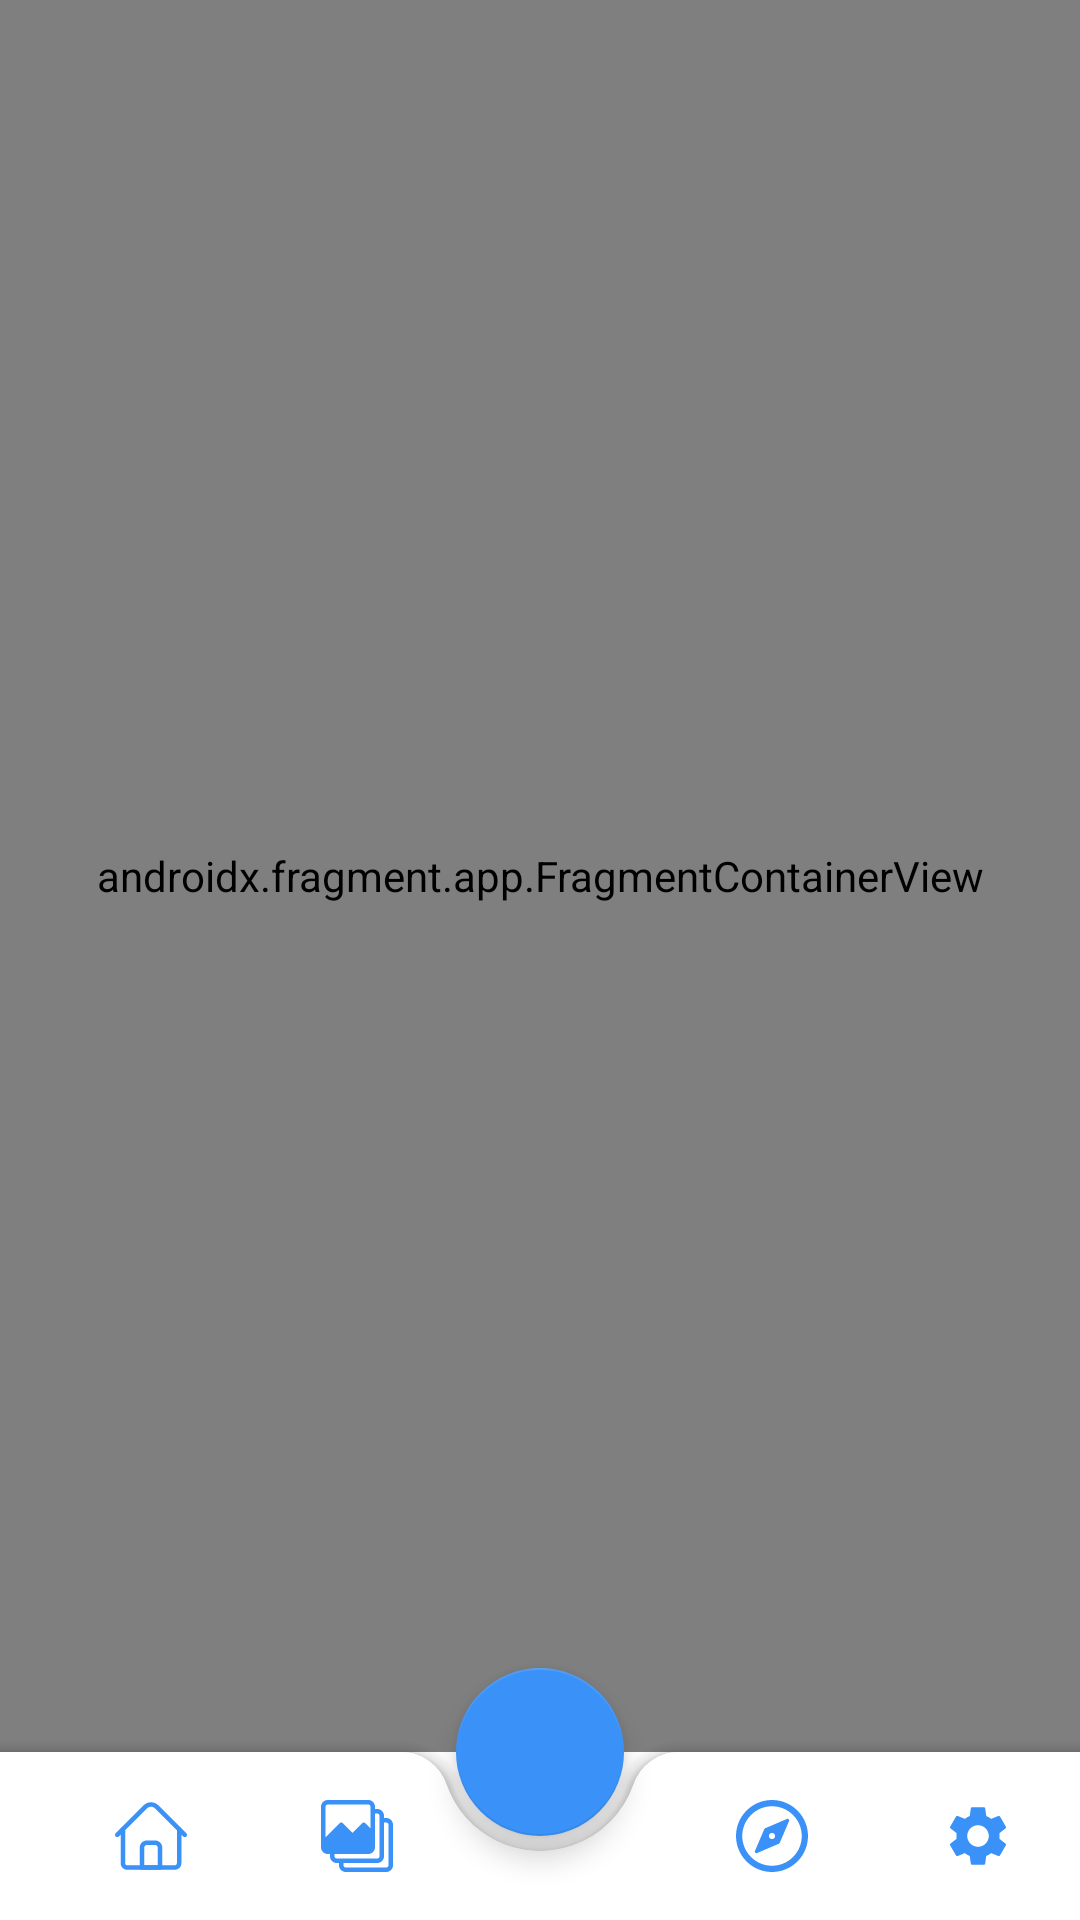

Icon bounding boxes for this 1080 × 1920 phone screenshot, format {"x1": x1, "y1": y1, "x2": x2, "y2": y2}:
brujula: {"x1": 736, "y1": 1800, "x2": 808, "y2": 1872}
home: {"x1": 115, "y1": 1802, "x2": 187, "y2": 1870}
images: {"x1": 321, "y1": 1800, "x2": 393, "y2": 1872}
settings: {"x1": 950, "y1": 1807, "x2": 1006, "y2": 1865}
